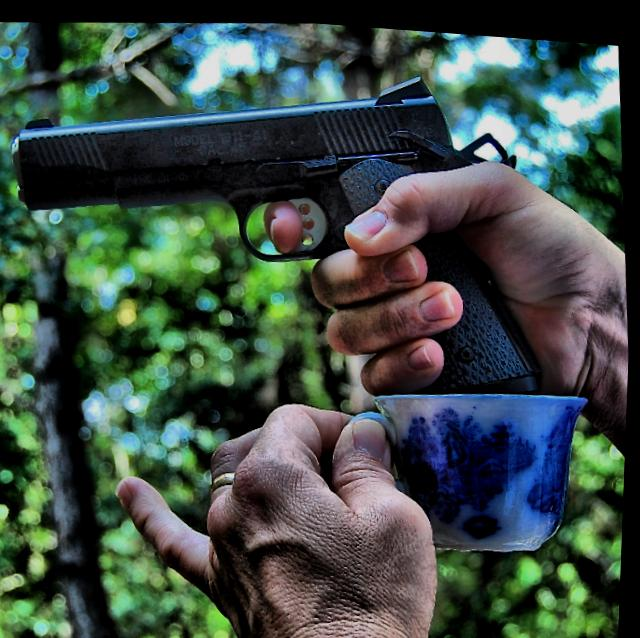pistol: (0, 36, 552, 422)
